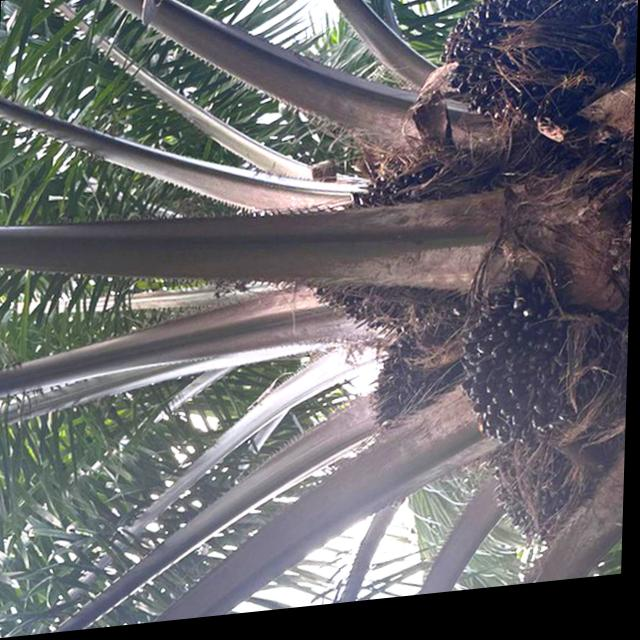unripe: (306, 156, 492, 361)
